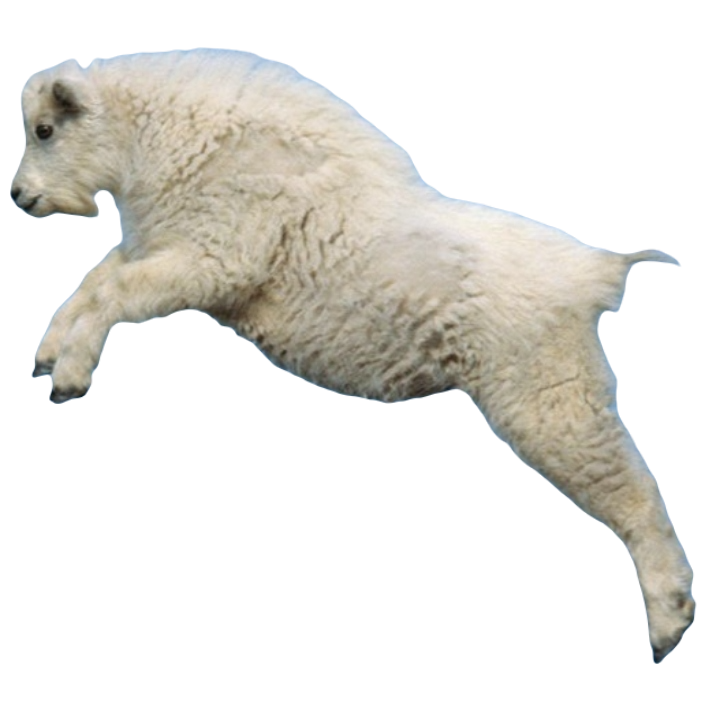Goat: (9, 41, 704, 667)
